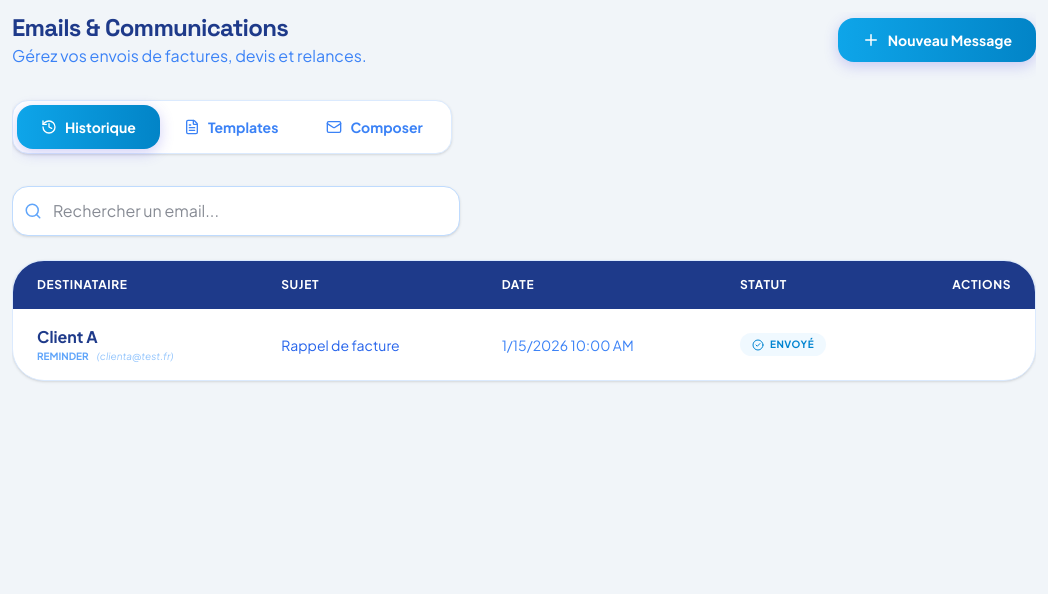
Test: EmailManager Component › Génération IA (draftEmail) › affiche une alerte si aucun client sélectionné pour la génération IA
Click the button "Nouveau Message". click: (937,40)
box: [838,18,1036,62]
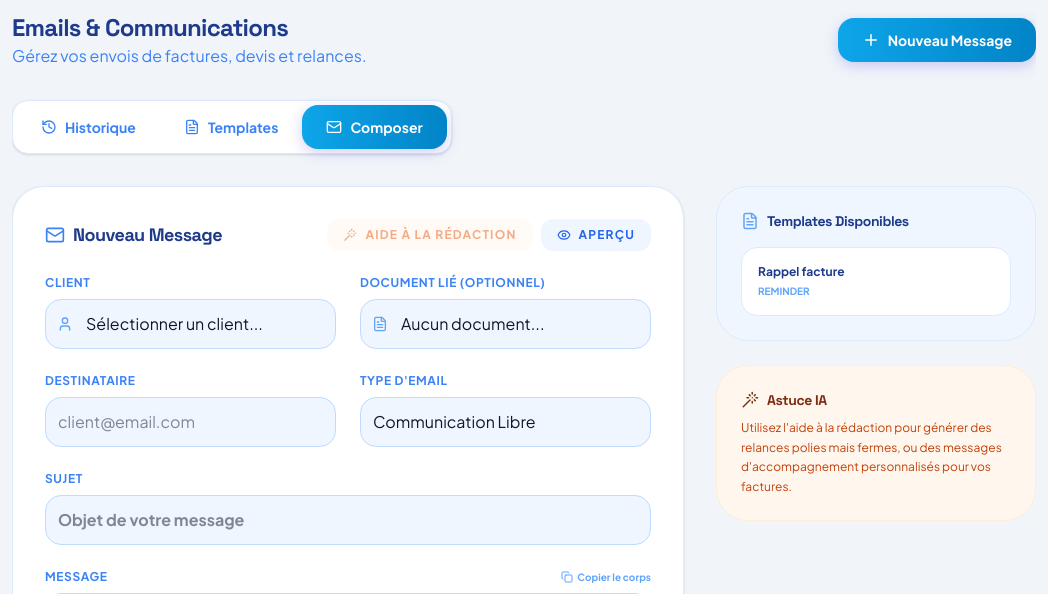
Now the button "Aide à la rédaction" is disabled, box [327,219,532,251]
